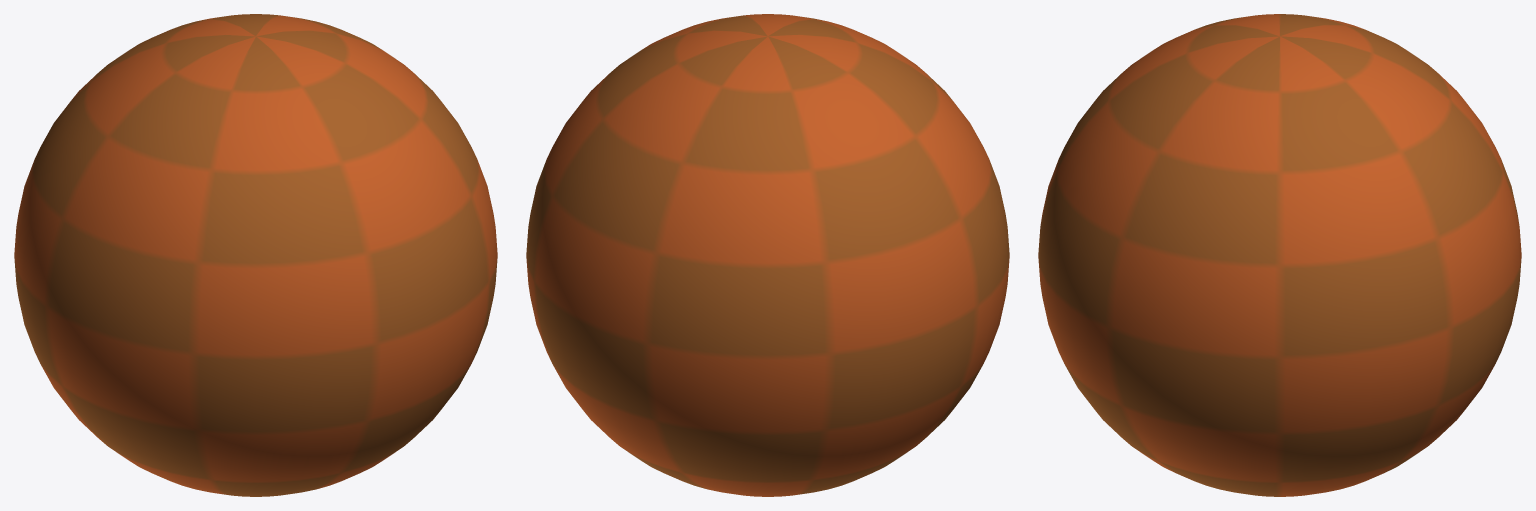
The model's file is pbr_textures_uv1.gltf.
3 views of the same model, side by side, from view 1: azimuth 30°, elevation 25°; view 2: azimuth 150°, elevation 25°; view 3: azimuth 270°, elevation 25° (orthographic).
Size of the model in its own units: 2 by 2 by 2.
Materials: 1 (1 with a texture image).
